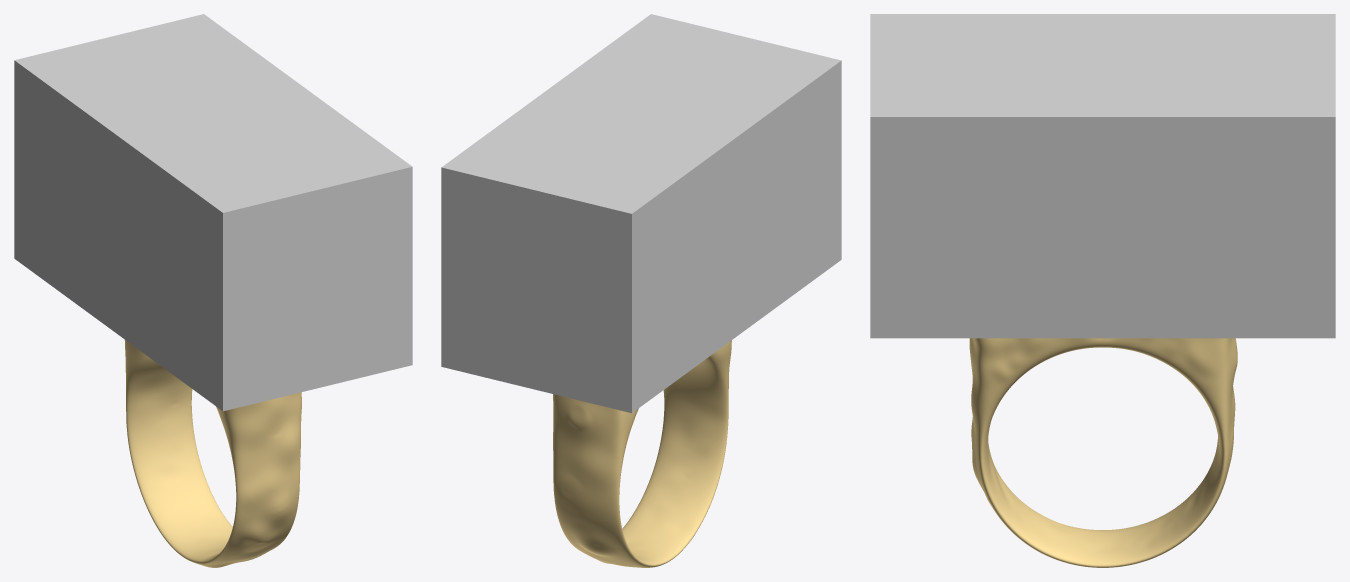
Rendered from Pallas2.glb.
3 views of the same model, side by side, from view 1: azimuth 30°, elevation 25°; view 2: azimuth 150°, elevation 25°; view 3: azimuth 270°, elevation 25° (orthographic). The views are drawn at different scales.
Parts seen in each view (by area): view 1: Cube, Cube.001; view 2: Cube, Cube.001; view 3: Cube, Cube.001.
Boxes of the visible parts, x1,y1,x2,y2 form: Cube: (14,14,412,411); Cube.001: (124,340,301,567); Cube: (441,14,841,413); Cube.001: (553,340,731,567); Cube: (870,14,1335,338); Cube.001: (969,338,1237,567).
Bounding box in the file's own units: 2 × 4.46 × 3.81.
Materials: 3 (1 with a texture image).
